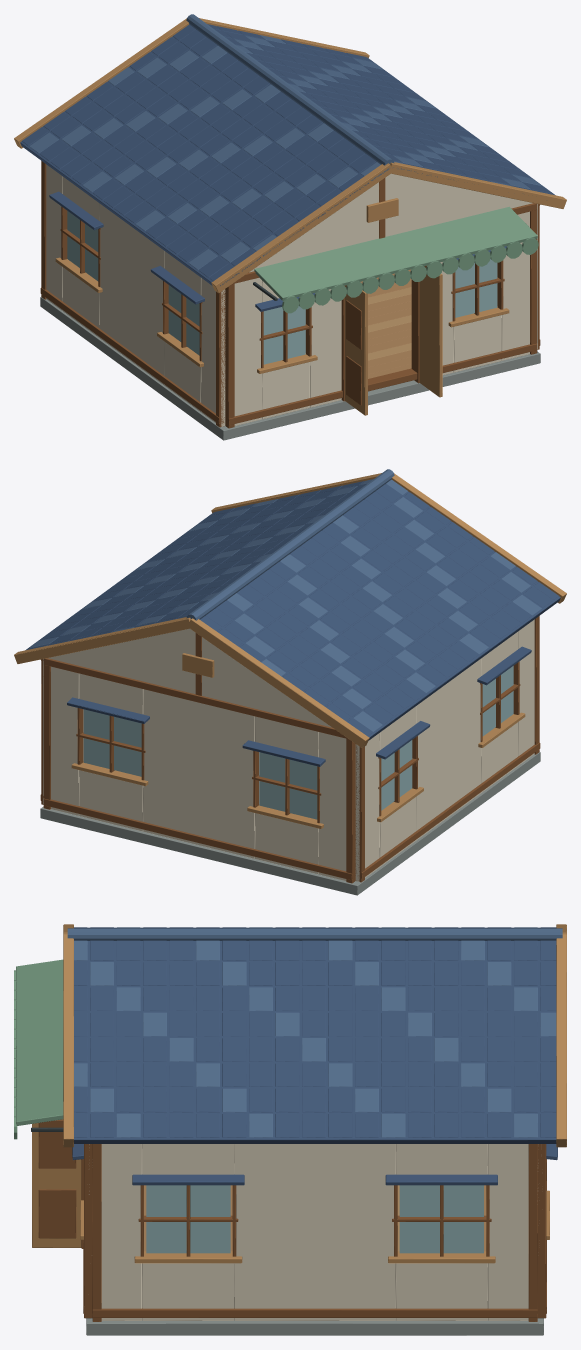
File: AR_Cafe.glb
The picture shows the model from 3 angles, top to bottom: view 1: azimuth 30°, elevation 25°; view 2: azimuth 150°, elevation 25°; view 3: azimuth 270°, elevation 25°; orthographic projection. The views are drawn at different scales.
Parts seen in each view (by area): view 1: AR_Cafe_Roof_LOD0, AR_Cafe_South_LOD0, AR_Cafe_West_LOD0, AR_Cafe_Floor_LOD0; view 2: AR_Cafe_Roof_LOD0, AR_Cafe_North_LOD0, AR_Cafe_West_LOD0, AR_Cafe_Floor_LOD0; view 3: AR_Cafe_Roof_LOD0, AR_Cafe_East_LOD0, AR_Cafe_South_LOD0, AR_Cafe_Floor_LOD0, AR_Cafe_North_LOD0.
Boxes of the visible parts, box(x1,y1,x2,y2) form: AR_Cafe_Roof_LOD0: box(14, 14, 566, 293); AR_Cafe_South_LOD0: box(225, 173, 538, 428); AR_Cafe_West_LOD0: box(40, 161, 225, 427); AR_Cafe_Floor_LOD0: box(40, 269, 540, 440); AR_Cafe_Roof_LOD0: box(14, 469, 566, 748); AR_Cafe_North_LOD0: box(43, 628, 355, 883); AR_Cafe_West_LOD0: box(355, 616, 540, 882); AR_Cafe_Floor_LOD0: box(40, 752, 540, 895); AR_Cafe_Roof_LOD0: box(63, 924, 566, 1147); AR_Cafe_East_LOD0: box(92, 1144, 537, 1321); AR_Cafe_South_LOD0: box(14, 959, 92, 1318); AR_Cafe_Floor_LOD0: box(86, 1185, 543, 1335); AR_Cafe_North_LOD0: box(537, 1144, 557, 1318).
Size of the model in its own units: 6.61 by 4.45 by 7.2.
Materials: 1 (1 with a texture image).
